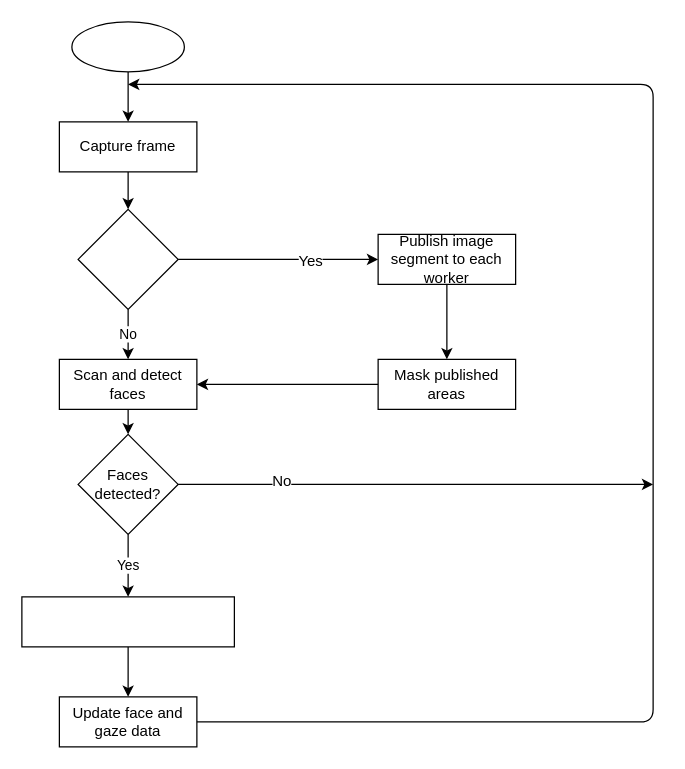
This 685x769 diagram has some shape labels left out. Each missing label, with the centre of its shape:
Assign worker threads to track faces and calculate gaze: (x=127, y=621)
Face data available?: (x=127, y=258)
Start: (x=127, y=46)
